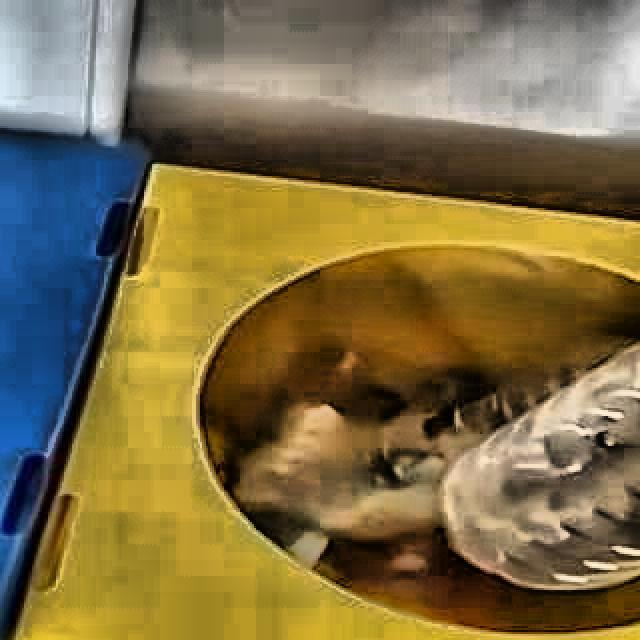plastic: (440, 346, 640, 591)
